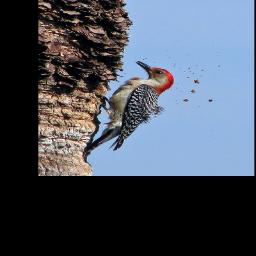Woodpecker: (81, 60, 176, 156)
